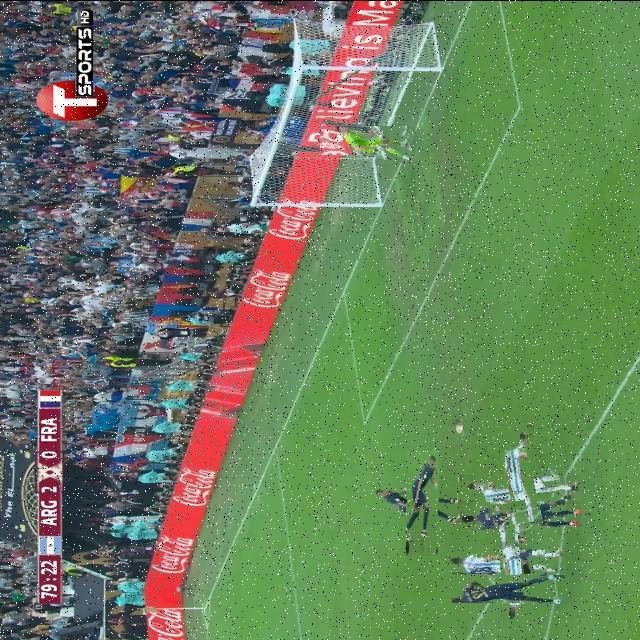ball: (449, 418, 464, 434)
goalkeeper: (320, 121, 414, 159)
player: (479, 444, 564, 529), (473, 522, 548, 597), (487, 479, 559, 551), (388, 467, 458, 538), (449, 574, 569, 603)
